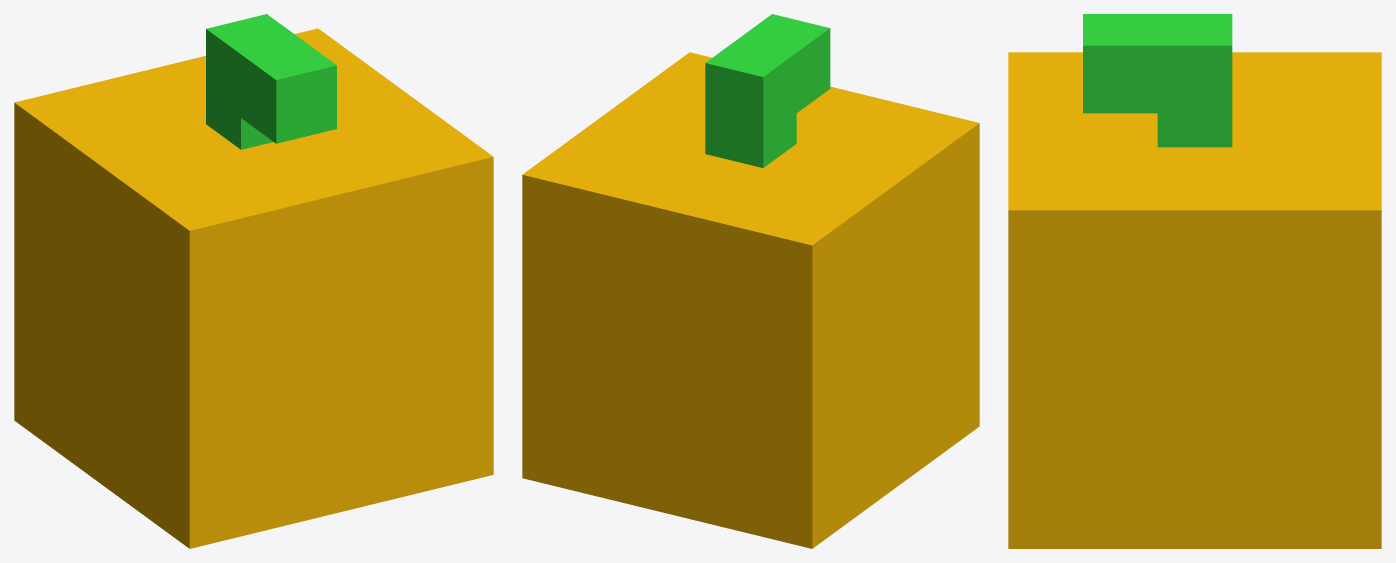
File: GoldenApple.gltf
3 views of the same model, side by side, from view 1: azimuth 30°, elevation 25°; view 2: azimuth 150°, elevation 25°; view 3: azimuth 270°, elevation 25° (orthographic). The views are drawn at different scales.
Parts seen in each view (by area): view 1: mesh (×3); view 2: mesh (×3); view 3: mesh (×3).
Part boxes in pixels (bbox=[...]): mesh (×3): bbox=[14, 14, 493, 548]; mesh (×3): bbox=[522, 14, 979, 548]; mesh (×3): bbox=[1008, 14, 1381, 548].
Bounding box in the file's own units: 0.3125 × 0.4062 × 0.3125.
Materials: 1 (1 with a texture image).
